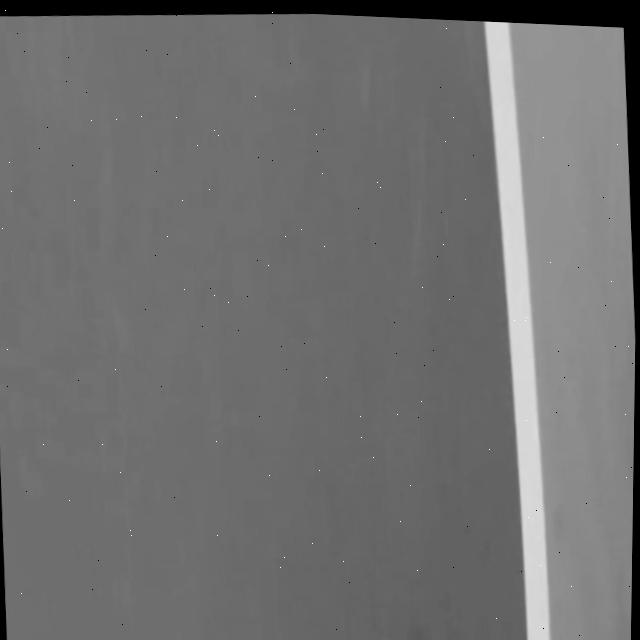right: (484, 22, 549, 640)
